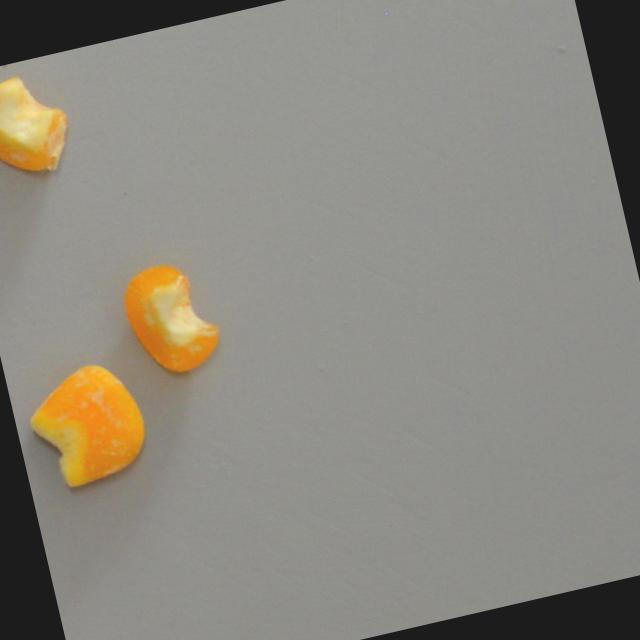pelicula: (17, 353, 153, 495), (116, 253, 228, 383), (0, 67, 77, 183)
